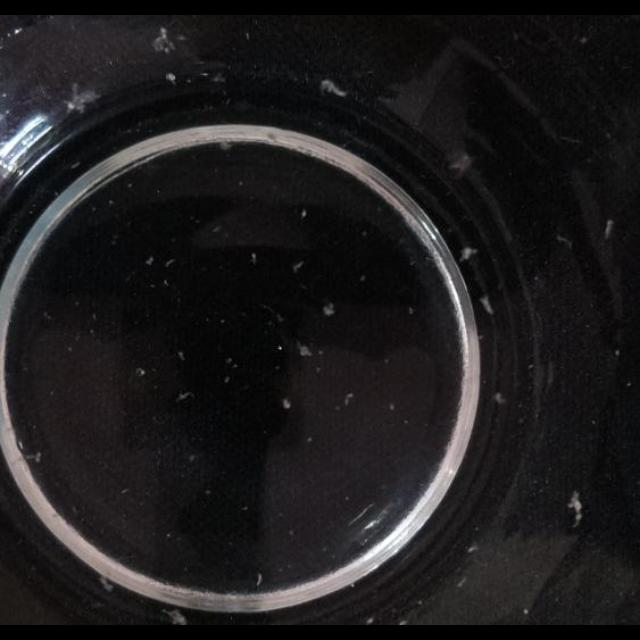Fibre: (64, 82, 96, 114), (152, 26, 178, 52), (567, 492, 583, 528), (320, 78, 348, 98), (448, 152, 472, 174), (164, 608, 186, 626), (478, 295, 494, 315), (99, 576, 115, 594), (459, 246, 476, 262), (557, 234, 573, 248), (298, 343, 312, 357), (324, 302, 336, 318), (605, 220, 615, 238), (493, 392, 505, 404)
microbeads: (282, 397, 292, 409), (344, 392, 354, 403), (136, 367, 146, 377), (33, 451, 41, 463), (189, 454, 197, 464), (178, 351, 186, 361), (406, 306, 414, 316), (146, 255, 154, 265), (225, 357, 233, 365), (204, 488, 212, 496), (388, 403, 396, 411), (241, 505, 249, 513), (300, 208, 306, 218), (164, 278, 170, 288), (223, 376, 230, 384), (614, 349, 620, 358), (522, 608, 528, 616), (276, 344, 282, 352), (306, 436, 312, 442)
